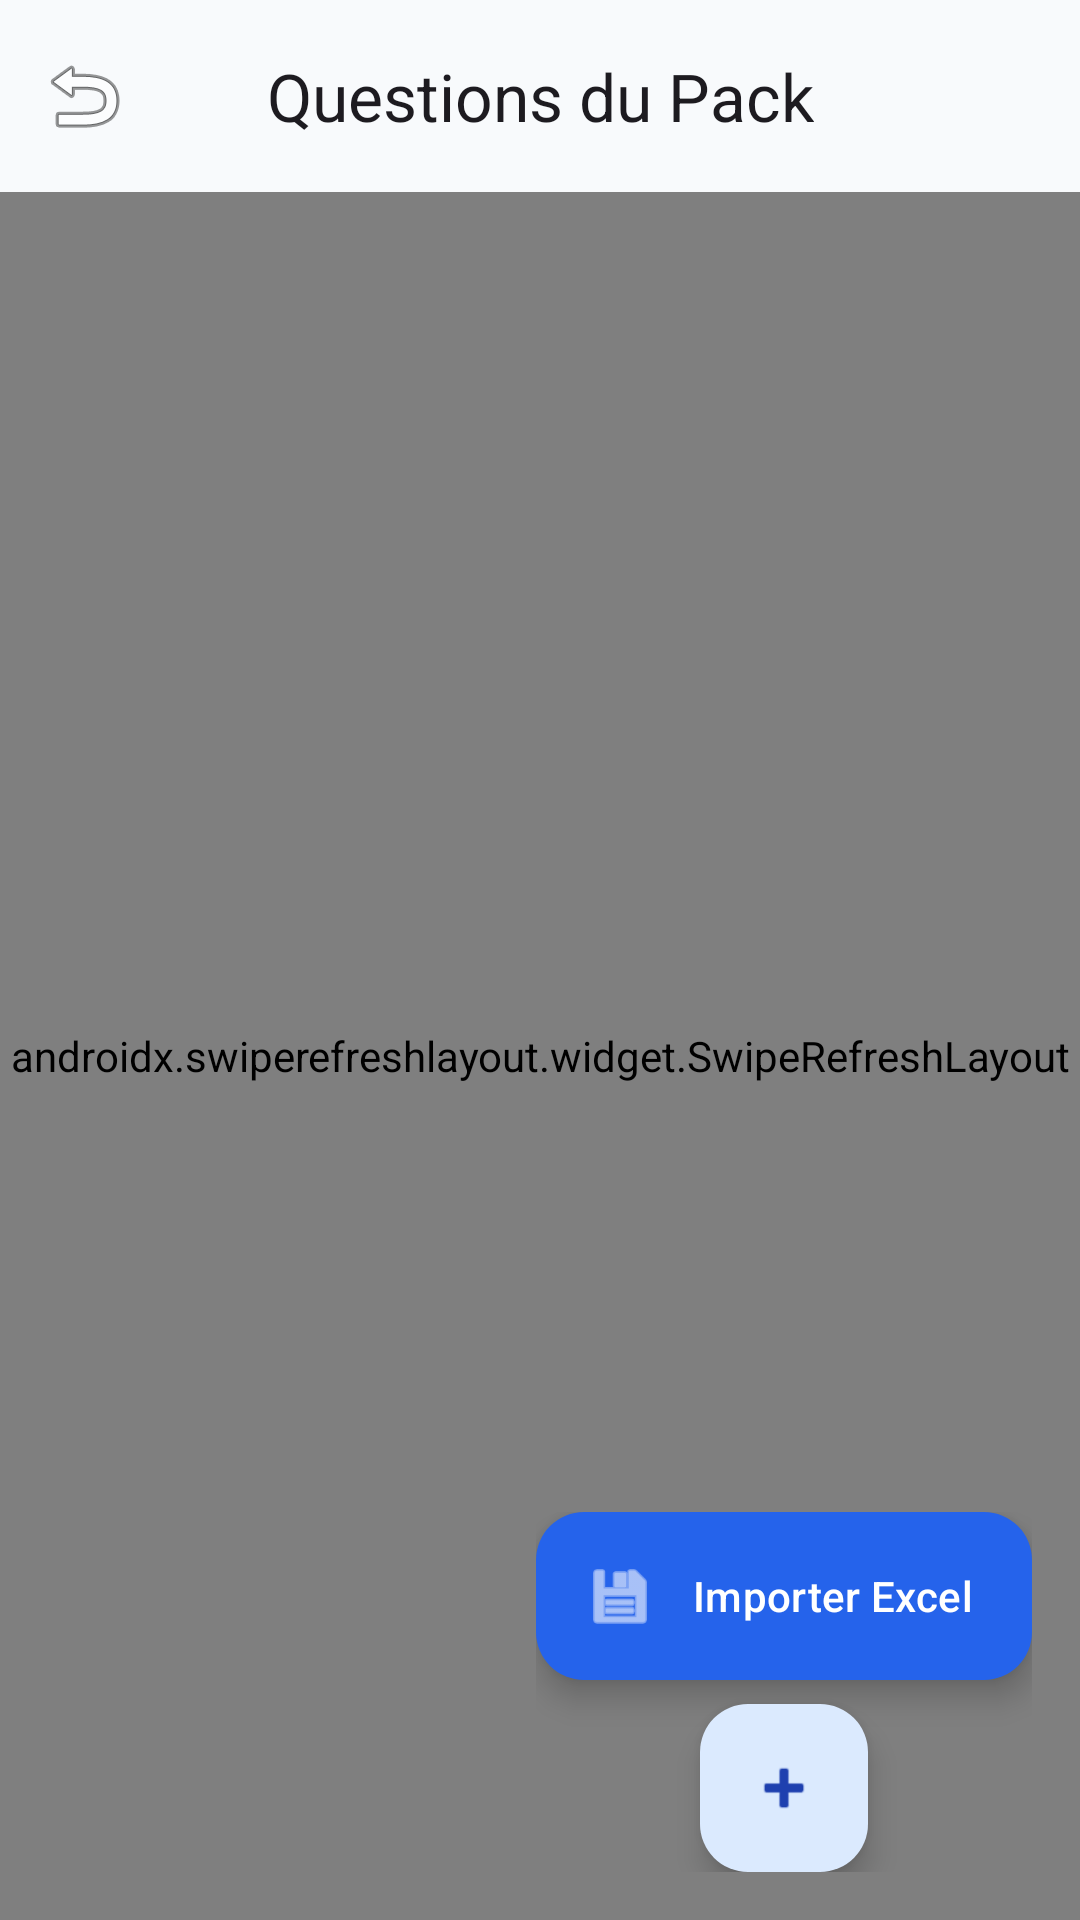

Named icons in this screenshot (1080*1920) and their bounding boxes, bbox(x1, y1, x2, y2):
Ajouter une question: bbox(700, 1704, 868, 1872)
